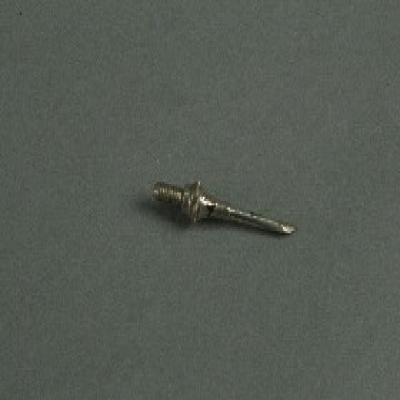technique: (151, 182, 296, 237)
